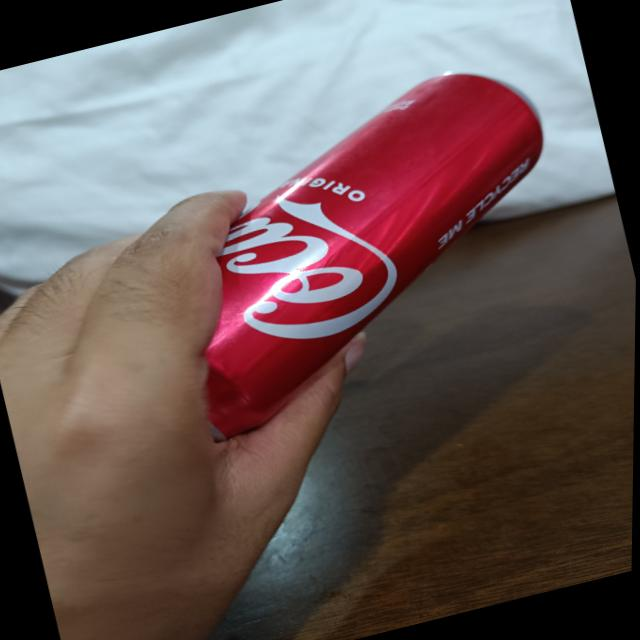coke: (71, 47, 601, 452)
